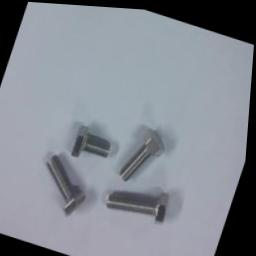Non-corroded-Bolts: (121, 126, 167, 180), (48, 156, 88, 216), (109, 190, 172, 222), (72, 124, 112, 156)
